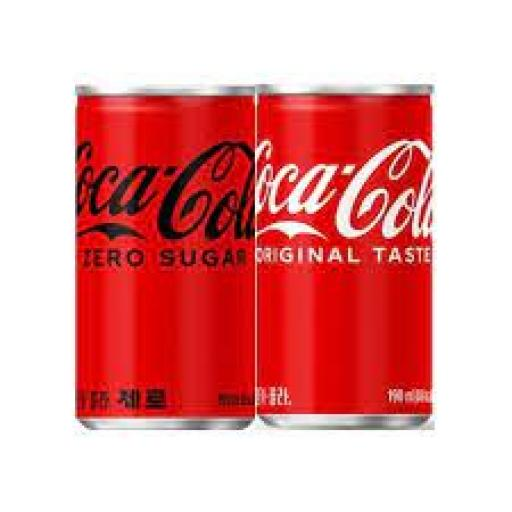Coca: (255, 80, 436, 436)
